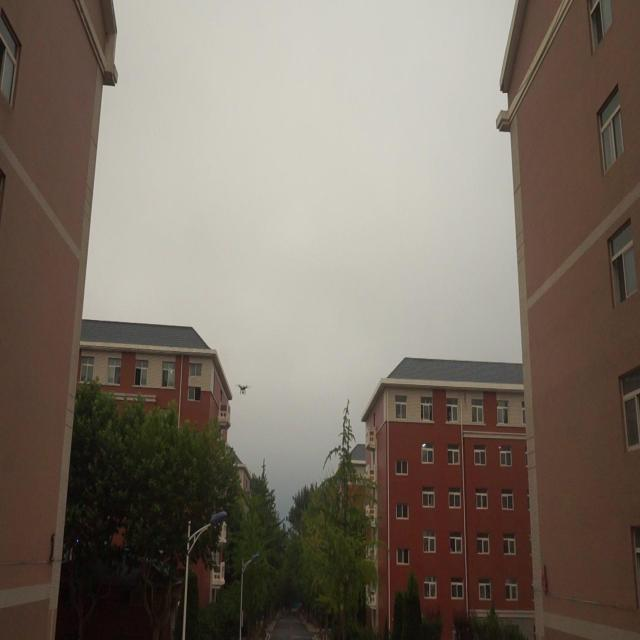drone: (235, 379, 251, 398)
